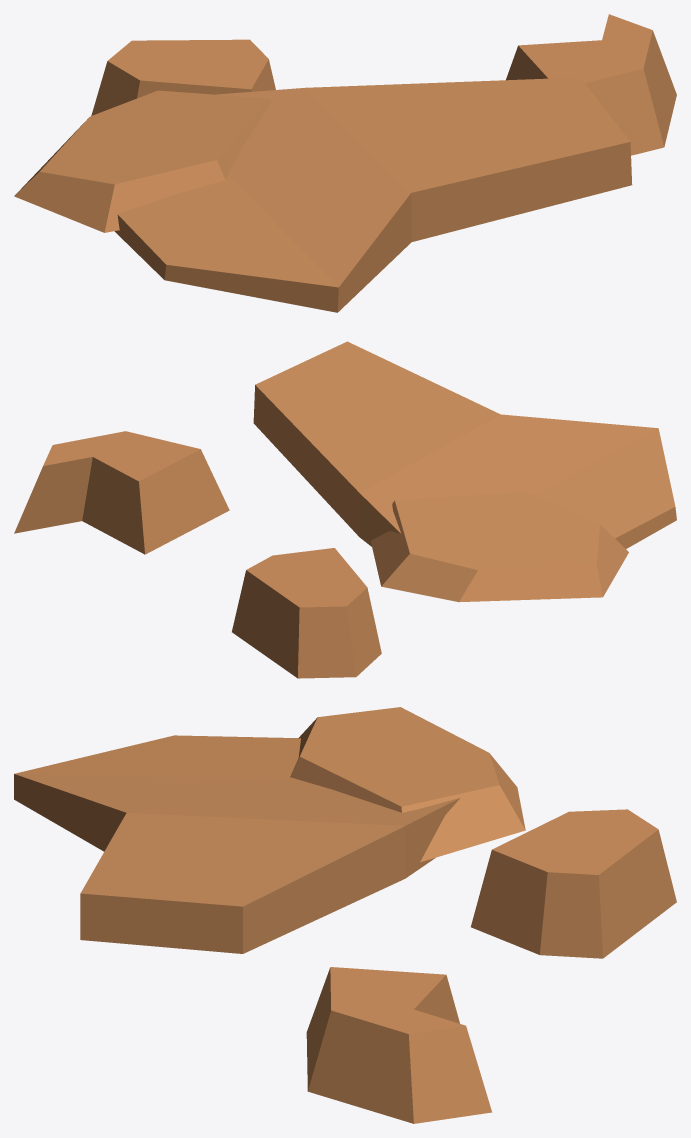
File: SandRocks13_LOD1.fbx
3 views of the same model, one above another, from view 1: azimuth 30°, elevation 25°; view 2: azimuth 150°, elevation 25°; view 3: azimuth 270°, elevation 25° (orthographic). The views are drawn at different scales.
Parts seen in each view (by area): view 1: Plane.169; view 2: Plane.169; view 3: Plane.169.
Boxes of the visible parts, <box> form: Plane.169: <box>14,14,676,312</box>; Plane.169: <box>14,341,676,678</box>; Plane.169: <box>14,707,676,1123</box>.
Bounding box in the file's own units: 102 × 17.76 × 84.52.
